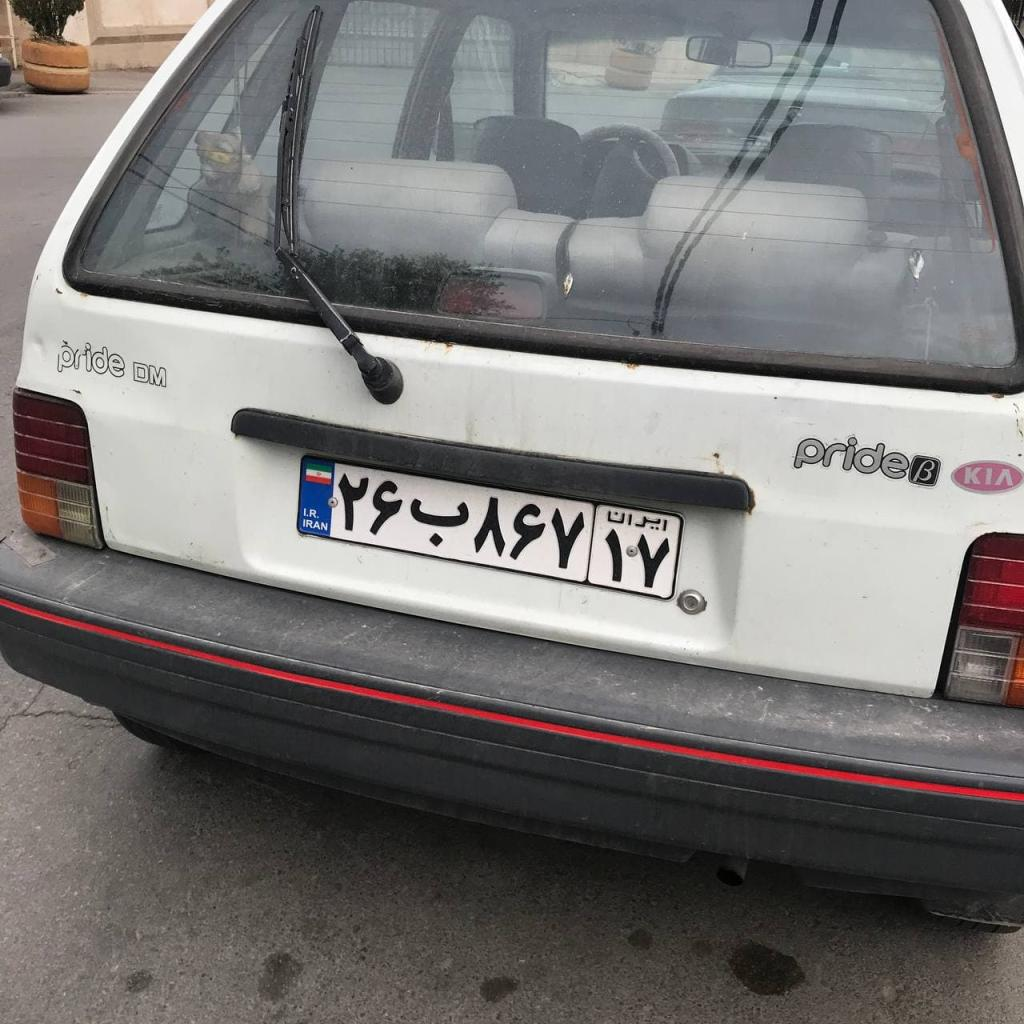Plates: (296, 458, 682, 598)
